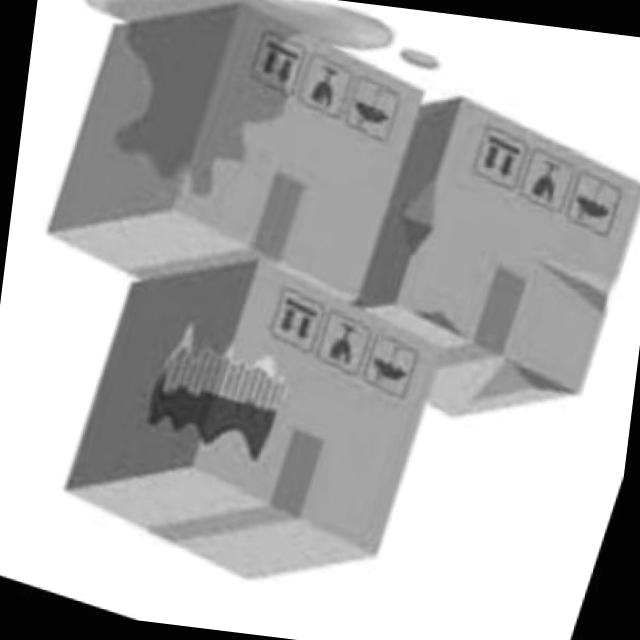box: (36, 213, 466, 634), (21, 0, 449, 358), (300, 68, 640, 461)
